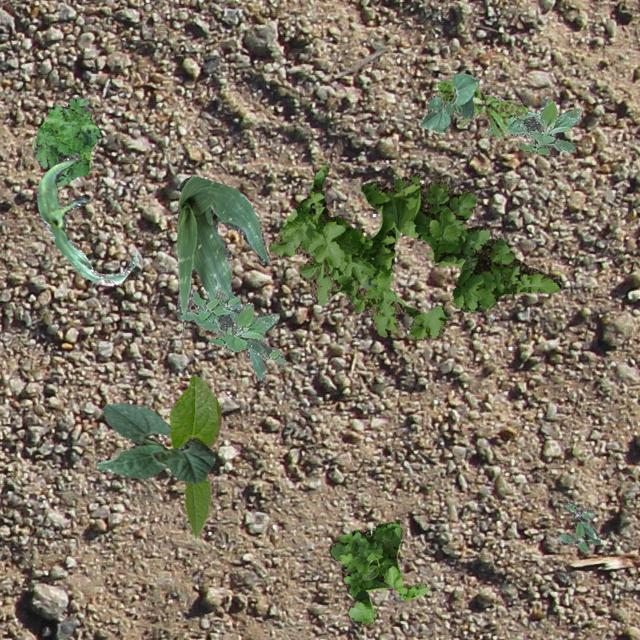crop: (175, 174, 268, 380), (35, 152, 138, 284), (94, 402, 214, 482), (168, 374, 220, 536), (418, 72, 478, 132)
weed: (268, 164, 560, 338), (328, 518, 428, 624), (178, 288, 284, 367), (34, 96, 100, 186), (486, 98, 580, 154), (436, 80, 526, 138), (556, 502, 598, 552)
